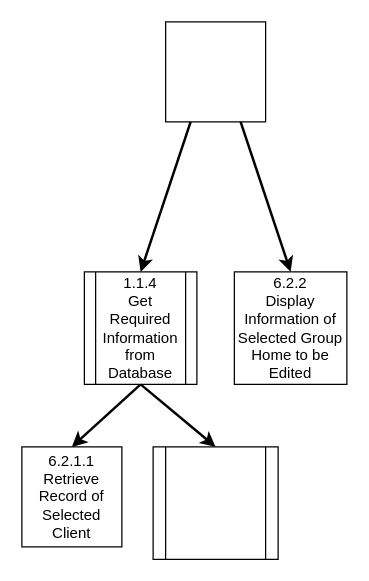
This 369x581 diagram has some shape labels left out. The shapes that lost their labels are listed below. From the top down, each one's centre as x and y in pixels, then its label:
point (215, 71): 6.2 Retrieve Client Information
point (215, 502): 5.1.4.1 Retrieve List of Supervisors from Staff Table
